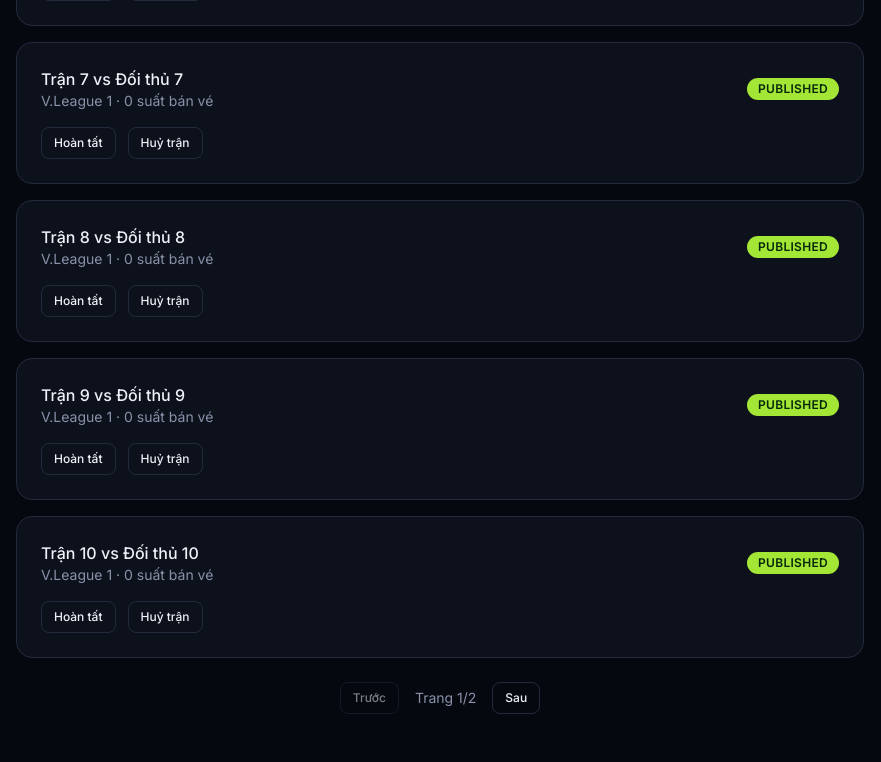
Scenario: AdminPage match list › steps back a page when completing the last match on it empties the page
(page scrolled)
Step 1. Click the button "Sau" → {"x": 516, "y": 698}, box [492,682,540,714]
(page scrolled)
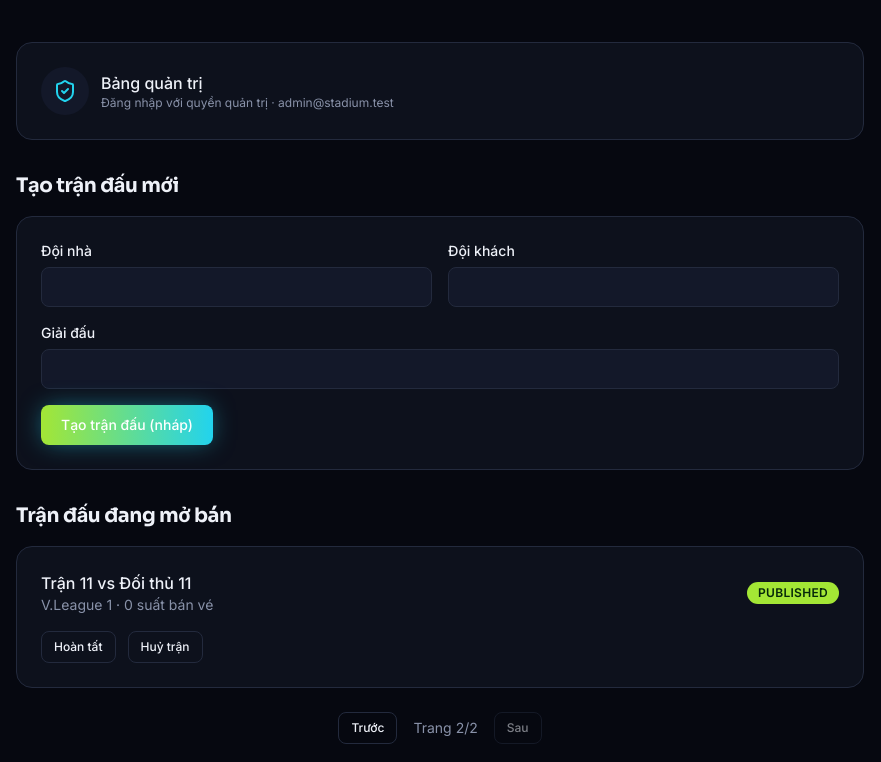
Expected: the text "Trận 11 vs Đối thủ 11" is shown, [41,571,213,595]
Step 2. Click the button "Hoàn tất" → {"x": 78, "y": 647}, box [41,631,116,663]
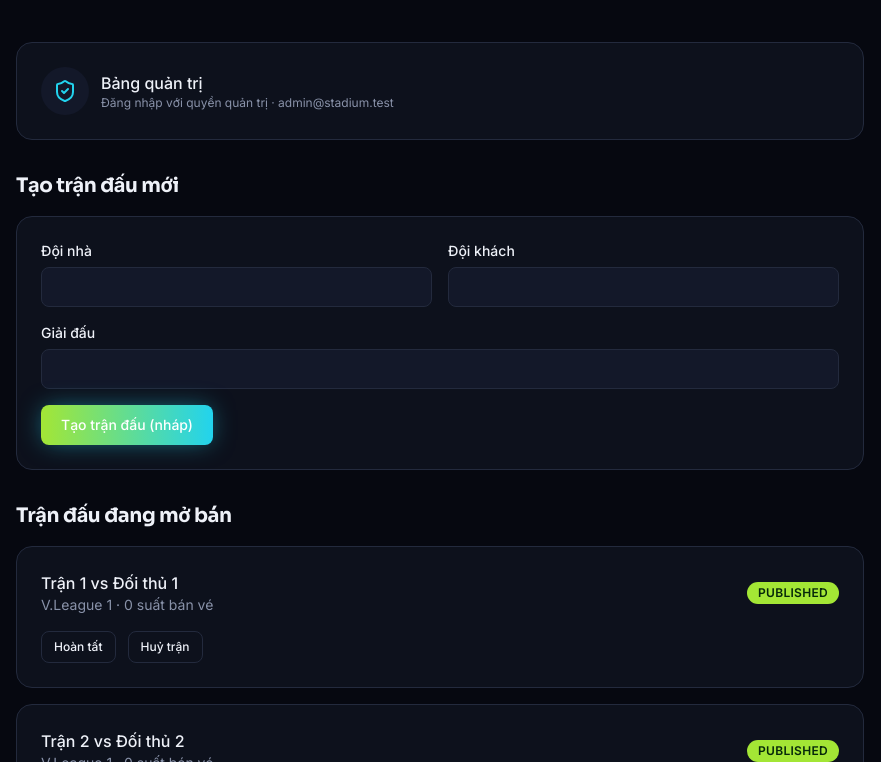
Expected: the text "Trận 1 vs Đối thủ 1" is shown, [41,573,178,593]
